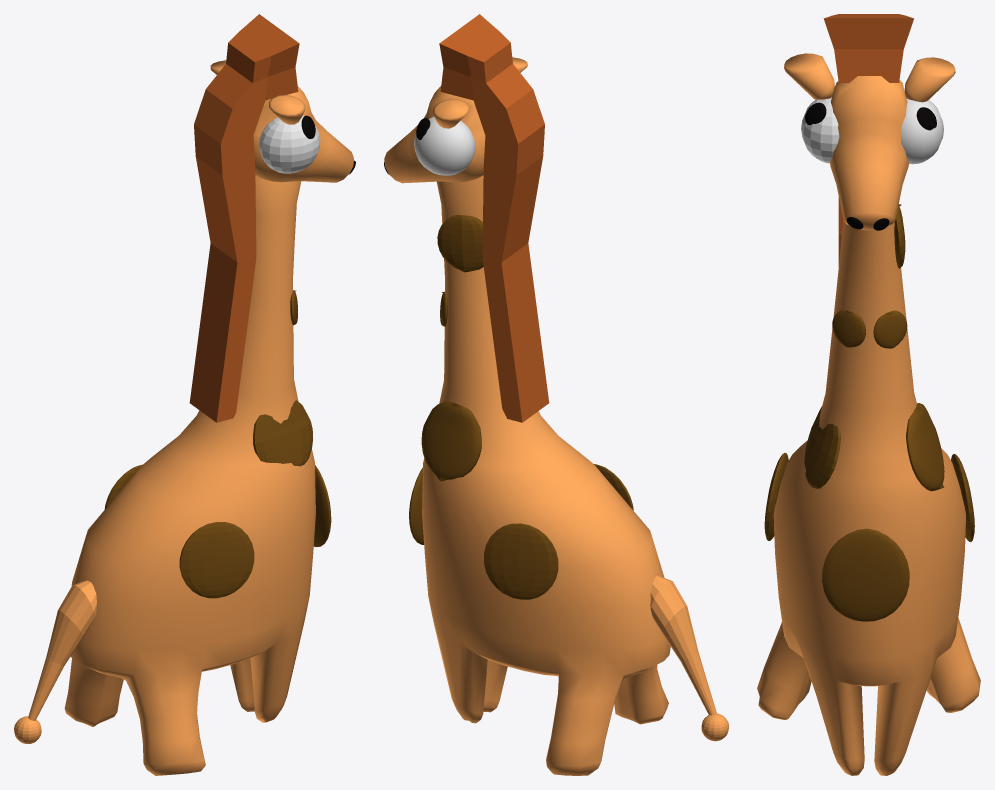
File: giraffe.fbx
3 views of the same model, side by side, from view 1: azimuth 30°, elevation 25°; view 2: azimuth 150°, elevation 25°; view 3: azimuth 270°, elevation 25° (orthographic). The views are drawn at different scales.
Visible parts, largest first — view 1: 柱体.016, 立方体.006, 球体.037, 柱体.020, 球体.025, 球体.039, 球体.027, 球体.041, 柱体.019, 球体.032; view 2: 柱体.016, 立方体.006, 球体.033, 球体.036, 柱体.020, 球体.025, 球体.026, 球体.034, 球体.041, 柱体.018, 球体.032; view 3: 柱体.016, 球体.025, 球体.041, 立方体.006, 球体.036, 球体.039, 球体.026, 柱体.019, 柱体.018, 球体.027, 球体.038, 球体.035 (+3 smaller).
Part boxes in pixels (x1,y1,x2,y2): 柱体.016: (64,175,315,775); 立方体.006: (189,14,299,422); 球体.037: (179,522,254,598); 柱体.020: (28,580,96,720); 球体.025: (253,86,353,182); 球体.039: (253,400,312,466); 球体.027: (259,115,320,173); 球体.041: (313,465,331,546); 柱体.019: (269,95,305,124); 球体.032: (14,716,41,743); 柱体.016: (422,175,670,775); 立方体.006: (439,14,549,422); 球体.033: (484,523,558,599); 球体.036: (421,401,481,481); 柱体.020: (650,576,716,715); 球体.025: (384,86,485,183); 球体.026: (414,116,475,175); 球体.034: (437,214,483,272); 球体.041: (409,467,423,544); 柱体.018: (432,99,469,128); 球体.032: (701,713,728,741); 柱体.016: (757,221,980,775); 球体.025: (830,76,908,230); 球体.041: (822,528,909,621); 立方体.006: (823,14,913,266); 球体.036: (906,403,944,491); 球体.039: (804,406,840,488); 球体.026: (901,98,943,164); 柱体.019: (784,53,834,99); 柱体.018: (904,57,955,102); 球体.027: (801,97,839,163); 球体.038: (832,309,865,347); 球体.035: (873,310,907,348).
Bounding box in the file's own units: 278 × 542 × 143.
